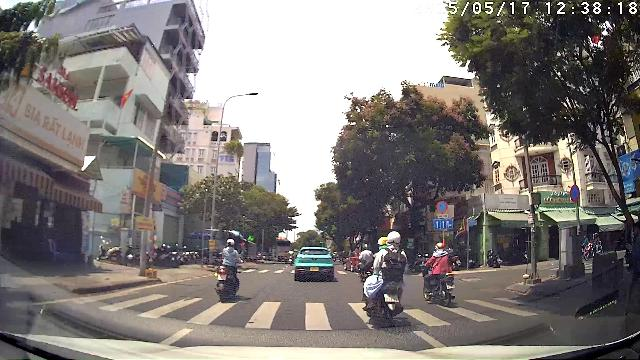131a-cam-do-xe: (570, 184, 580, 202), (436, 201, 448, 213)
